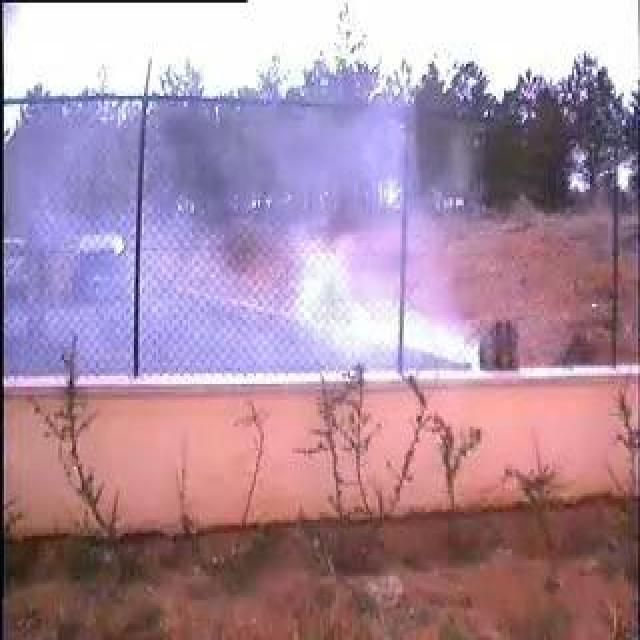Smoke: (76, 108, 478, 367)
